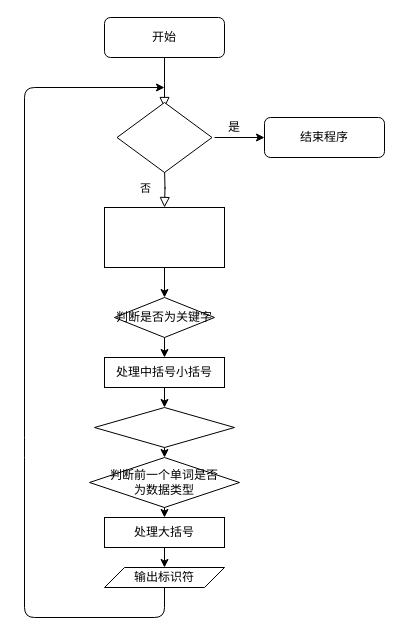
Image size: 402x643. Some labels were removed from this diagram. The centre of each missing label's shape, as x and y in pixels:
"判断结构体类型标识符" goes at point (164, 427).
"按照空格分割字符串，删除空子串，得到单词集合" goes at point (164, 237).
"逐行读取源程序并删除制表符等无用字符 判断是否为空" goes at point (164, 137).
